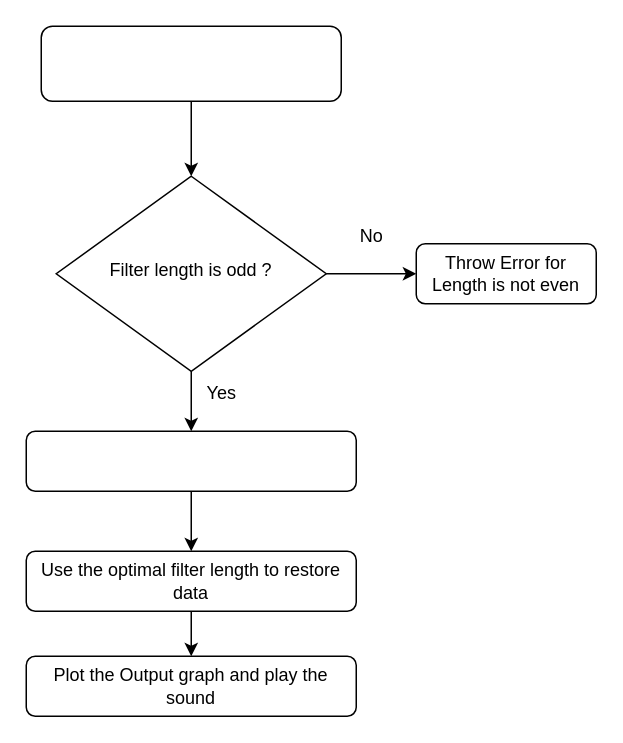
This 623x743 diagram has some shape labels left out. Here are the shapes that lost their labels. From the top down, the centre of each, then its label:
At (x=190, y=63): "Read the degraded Audio data".
At (x=190, y=460): "Find the optimal Filter length using MSE".
